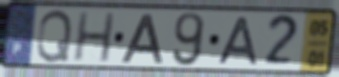2: (261, 12, 303, 71)
9: (171, 10, 206, 68)
A: (119, 12, 165, 65), (214, 15, 260, 67)
H: (70, 11, 117, 65)
Q: (35, 8, 75, 64)
